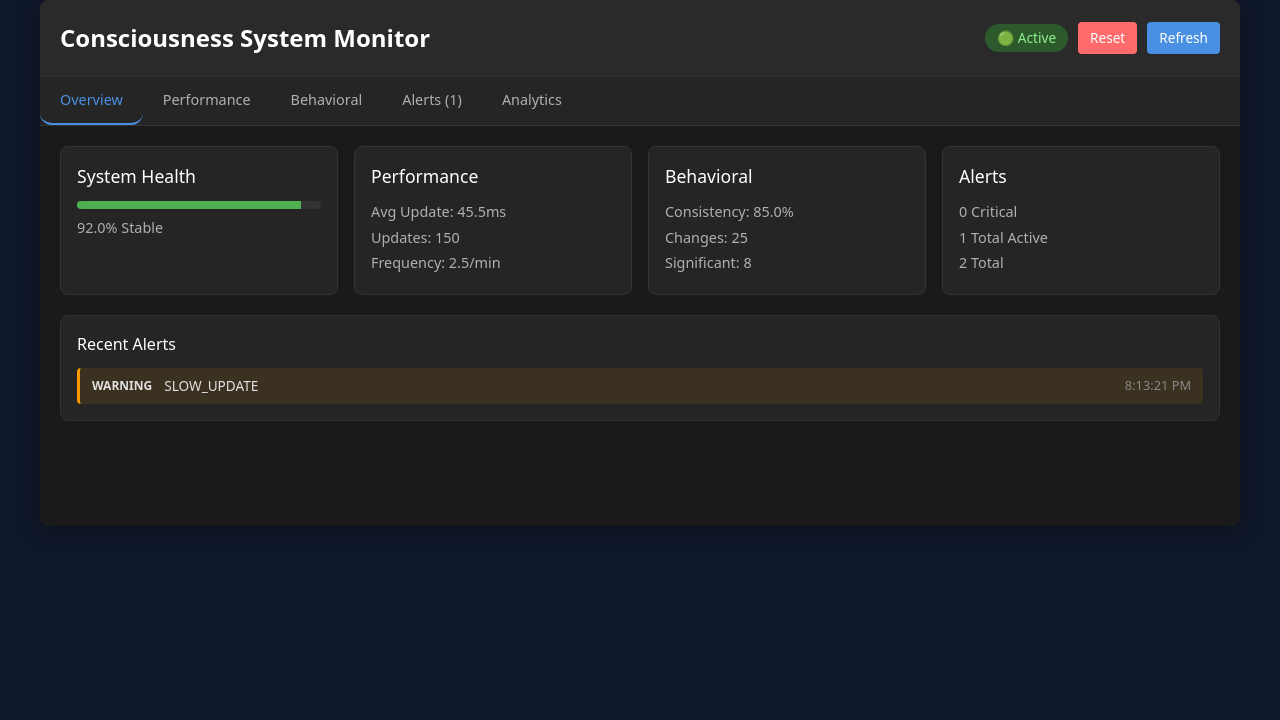
Test: ConsciousnessMonitoringDashboard › Analytics Tab › should display performance trends
Click the button "Analytics": (532, 101) [482, 77, 582, 125]
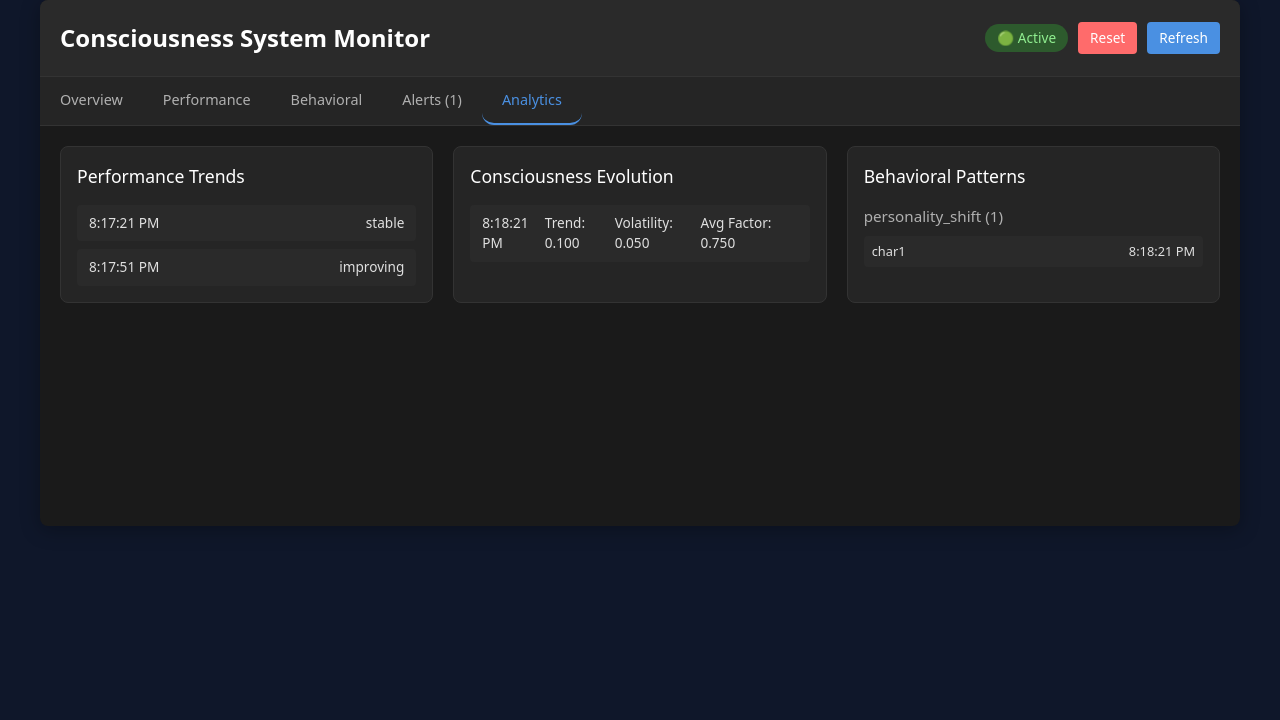
Expected: the text "stable" is shown, [366, 213, 404, 233]
Expected: the heading "Performance Trends" is shown, [77, 164, 245, 188]
Expected: the text "improving" is shown, [339, 257, 404, 278]
